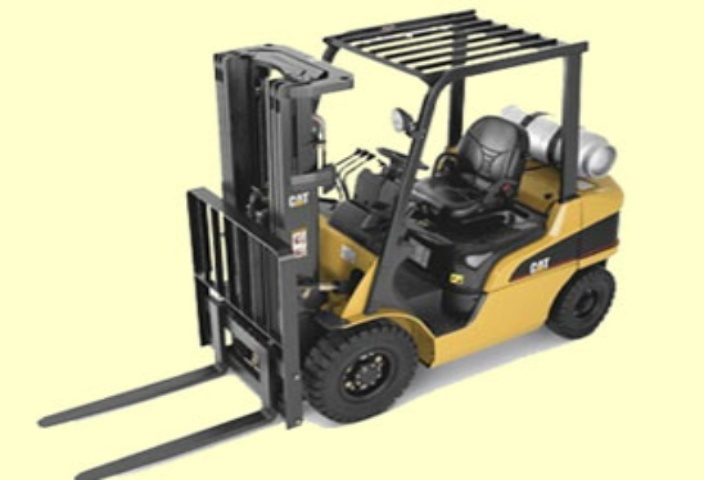industrial: (15, 4, 640, 449)
